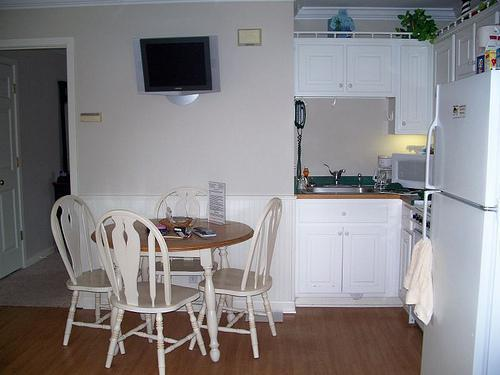Lavaplatos: (308, 161, 381, 197)
